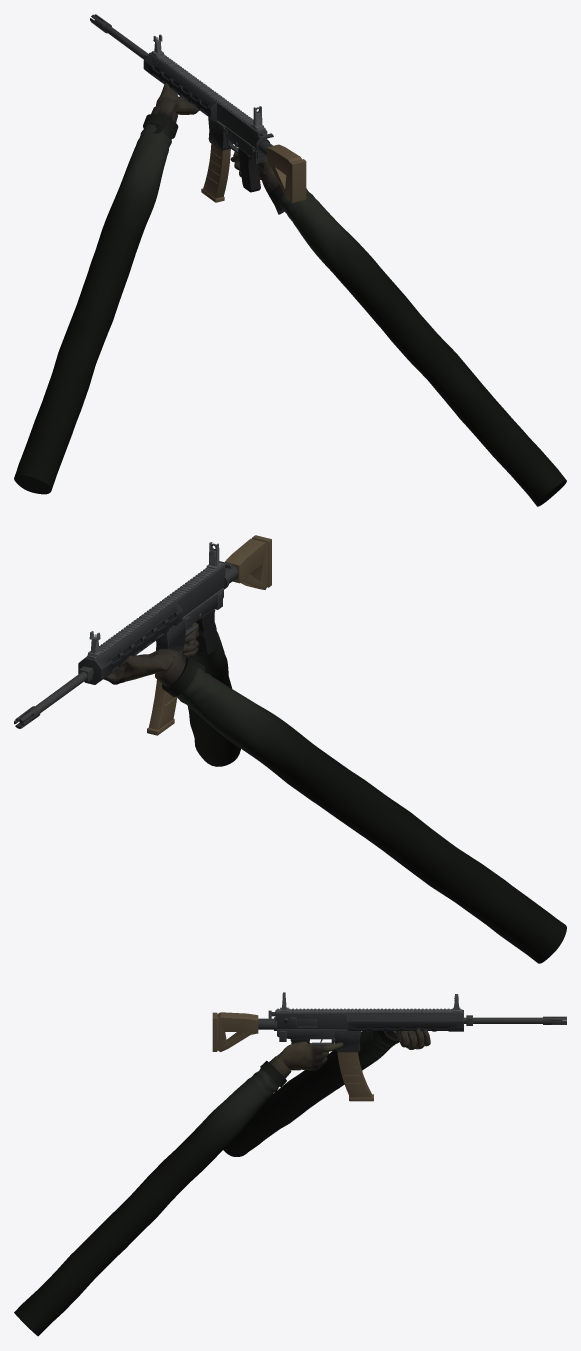
File: warden.glb
The picture shows the model from 3 angles, top to bottom: view 1: azimuth 30°, elevation 25°; view 2: azimuth 150°, elevation 25°; view 3: azimuth 270°, elevation 25°; orthographic projection. The views are drawn at different scales.
Parts seen in each view (by area): view 1: arms_L_warden, arms_R_warden, base, mag, dressing; view 2: arms_L_warden, base, arms_R_warden, dressing, mag; view 3: arms_R_warden, base, arms_L_warden, mag, dressing.
Part boxes in pixels (x1,y1,x2,y2): arms_L_warden: [14, 82, 199, 494]; arms_R_warden: [230, 152, 566, 506]; base: [143, 52, 306, 202]; mag: [201, 144, 230, 202]; dressing: [90, 14, 263, 130]; arms_L_warden: [103, 649, 566, 963]; base: [78, 535, 271, 684]; arms_R_warden: [182, 622, 240, 766]; dressing: [14, 542, 221, 728]; mag: [147, 651, 181, 735]; arms_R_warden: [14, 1041, 343, 1336]; base: [212, 1008, 463, 1070]; arms_L_warden: [223, 1027, 433, 1156]; mag: [337, 1052, 373, 1101]; dressing: [280, 992, 566, 1025].
Size of the model in its own units: 1.15 by 0.8403 by 1.49.
